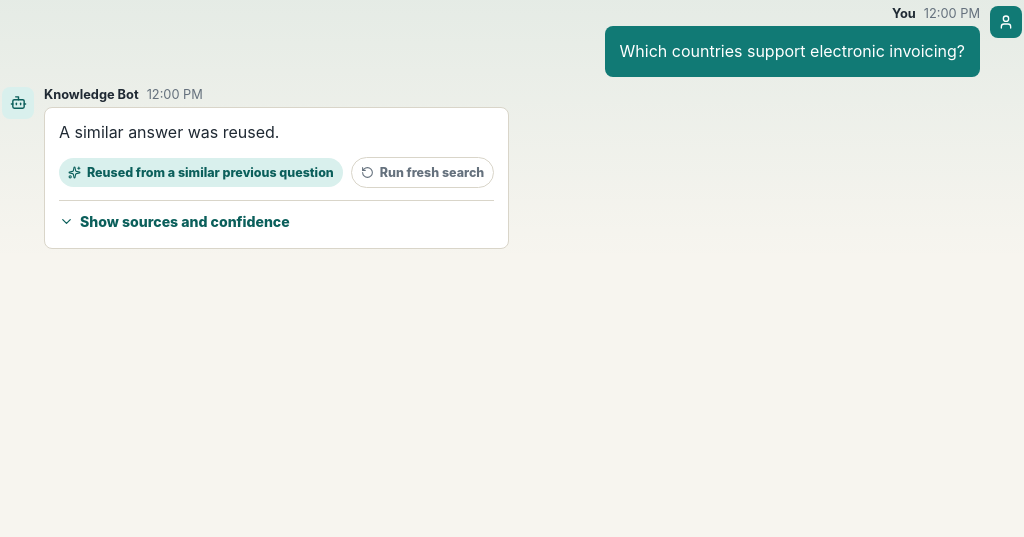
Test: Slack-style chat experience › renders reused-answer labels in the bot thread
This screenshot has width=1024, height=537.
Check: the text "Reused from a similar previous question" is shown, box [59,158,343,187]
Check: the button "Run fresh search" is shown, box [351,157,494,188]
Click the heading "Show sources and confidence". click: (174, 222)
box: [59,211,290,233]
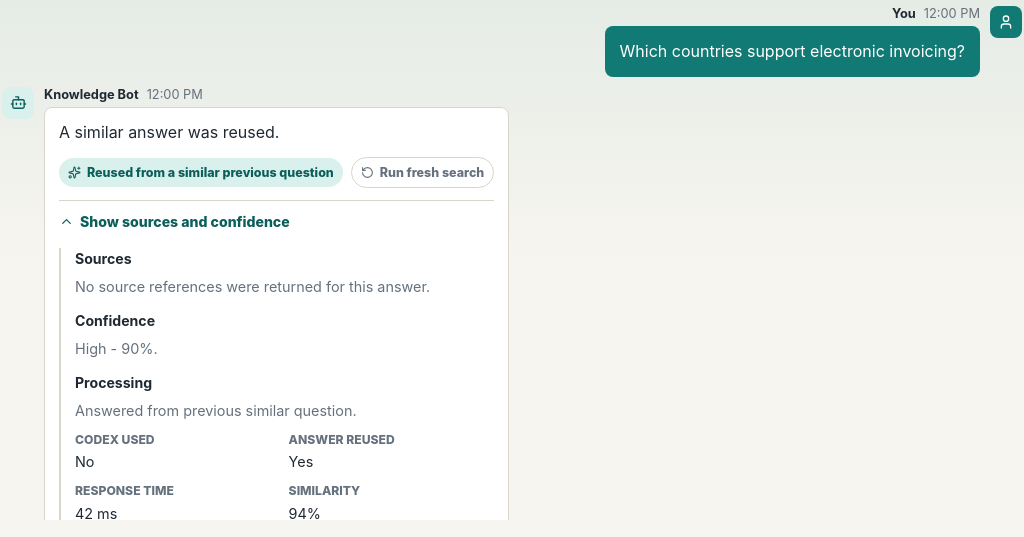
Check: the text "Answered from previous similar question." is shown, box [75,402,357,419]
Check: the text "94%" is shown, box [289,504,321,520]
